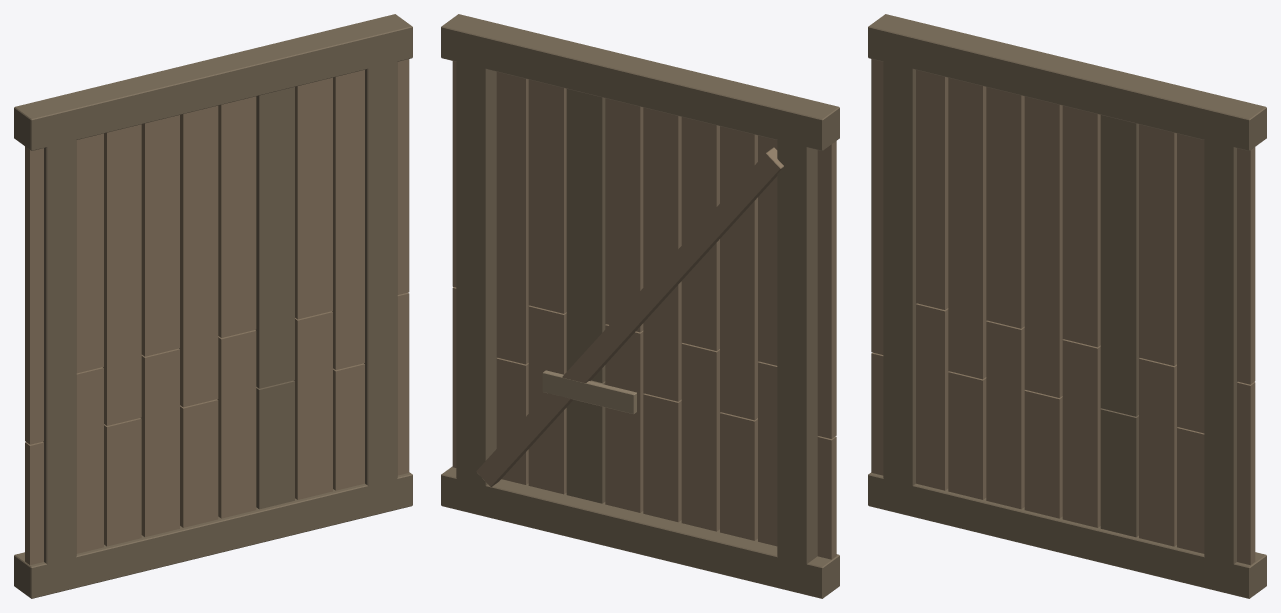
Rendered from env_wall_plank_repaired_c_v04_staggered_joints.glb.
3 views of the same model, side by side, from view 1: azimuth 30°, elevation 25°; view 2: azimuth 150°, elevation 25°; view 3: azimuth 330°, elevation 25° (orthographic).
Visible parts, largest first — view 1: material_0, material_2; view 2: material_0, material_2, material_3; view 3: material_0, material_2.
Boxes of the visible parts, left/top/right/bottom form: material_0: left=25, top=59, right=409, bottom=565; material_2: left=14, top=14, right=412, bottom=598; material_0: left=452, top=61, right=836, bottom=559; material_2: left=441, top=14, right=839, bottom=598; material_3: left=542, top=370, right=636, bottom=414; material_0: left=871, top=59, right=1255, bottom=565; material_2: left=868, top=14, right=1266, bottom=598.
Bounding box in the file's own units: 2 × 2.4 × 0.19.
